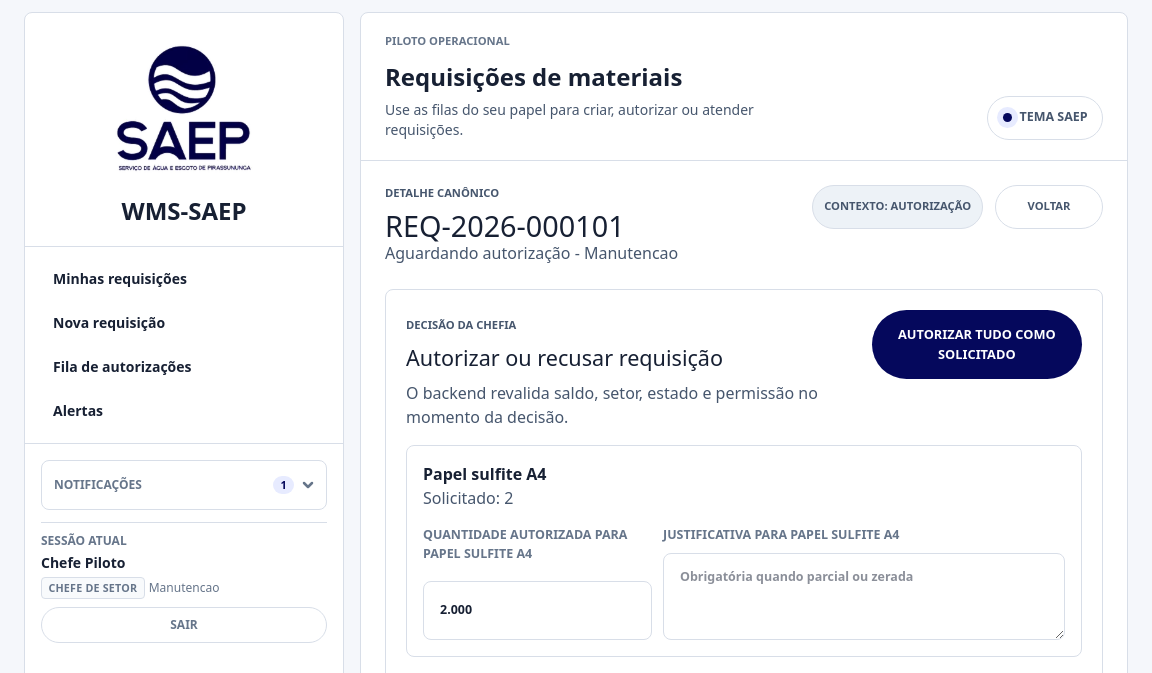
Test: frontend pilot router › redirects to login when authorize returns unauthenticated error
Expected: the heading "REQ-2026-000101" is shown, [385,206,625,245]
Click the button "Autorizar tudo como solicitado".
click(977, 345)  # box [872,310,1082,379]
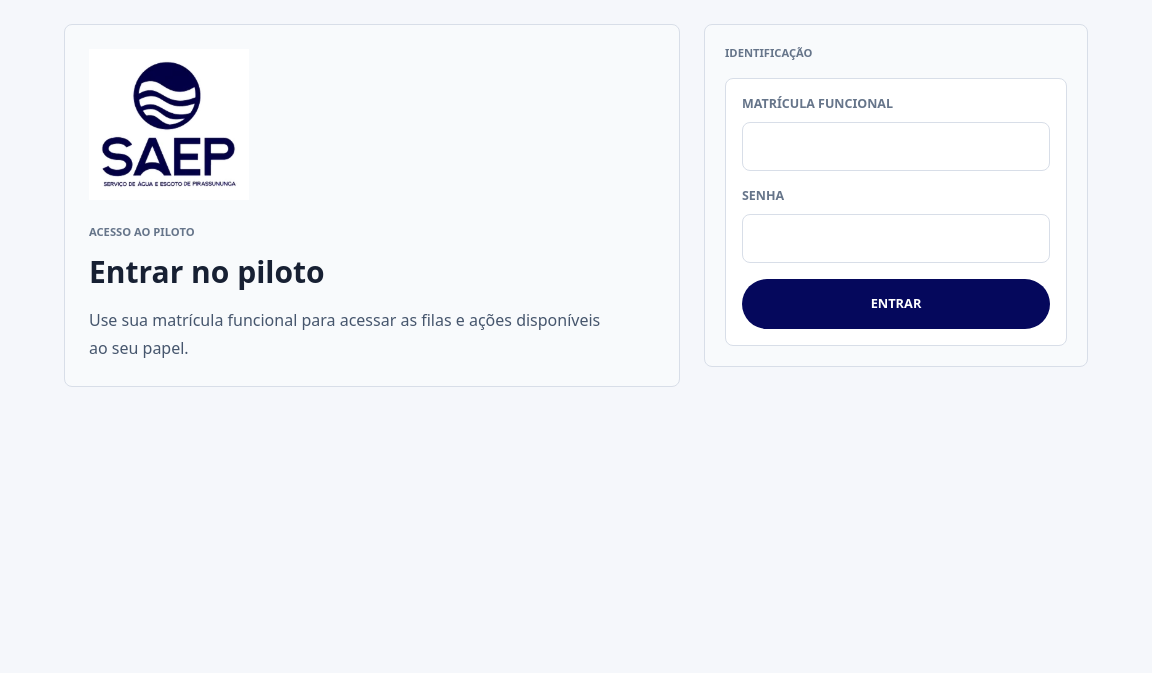
Result: the heading "Entrar no piloto" is shown at [89,251,325,292]
